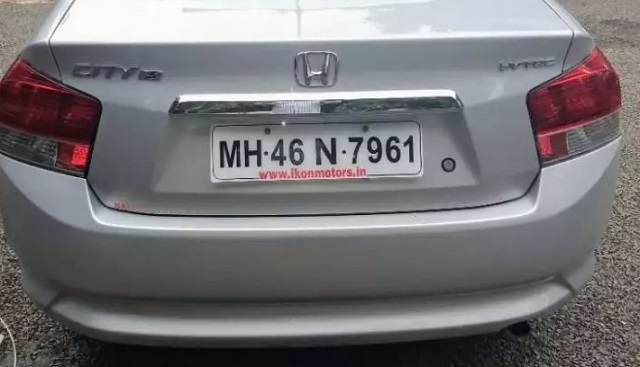licenseplate: (209, 121, 431, 184)
